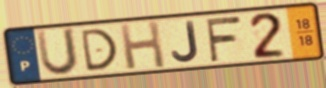2: (248, 11, 287, 61)
D: (78, 27, 120, 74)
F: (203, 14, 244, 64)
H: (117, 19, 168, 72)
J: (170, 19, 202, 64)
U: (34, 26, 81, 78)
